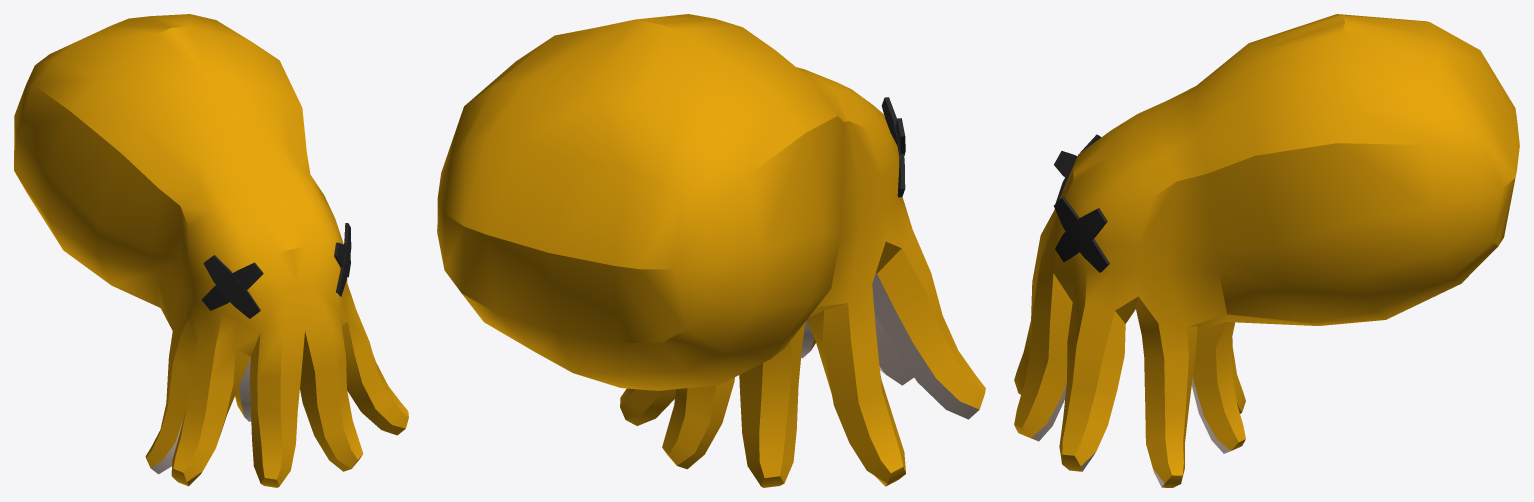
Rendered from octopus.glb.
3 views of the same model, side by side, from view 1: azimuth 30°, elevation 25°; view 2: azimuth 150°, elevation 25°; view 3: azimuth 270°, elevation 25° (orthographic). The views are drawn at different scales.
Visible parts, largest first — view 1: FoodIngredient_Octopus; view 2: FoodIngredient_Octopus; view 3: FoodIngredient_Octopus.
Part boxes in pixels (box(x1,y1,x2,y2)): FoodIngredient_Octopus: box(14, 14, 408, 487); FoodIngredient_Octopus: box(437, 14, 985, 487); FoodIngredient_Octopus: box(1014, 14, 1519, 487).
Bounding box in the file's own units: 1.06 × 1.54 × 1.7.
Materials: 1 (1 with a texture image).
